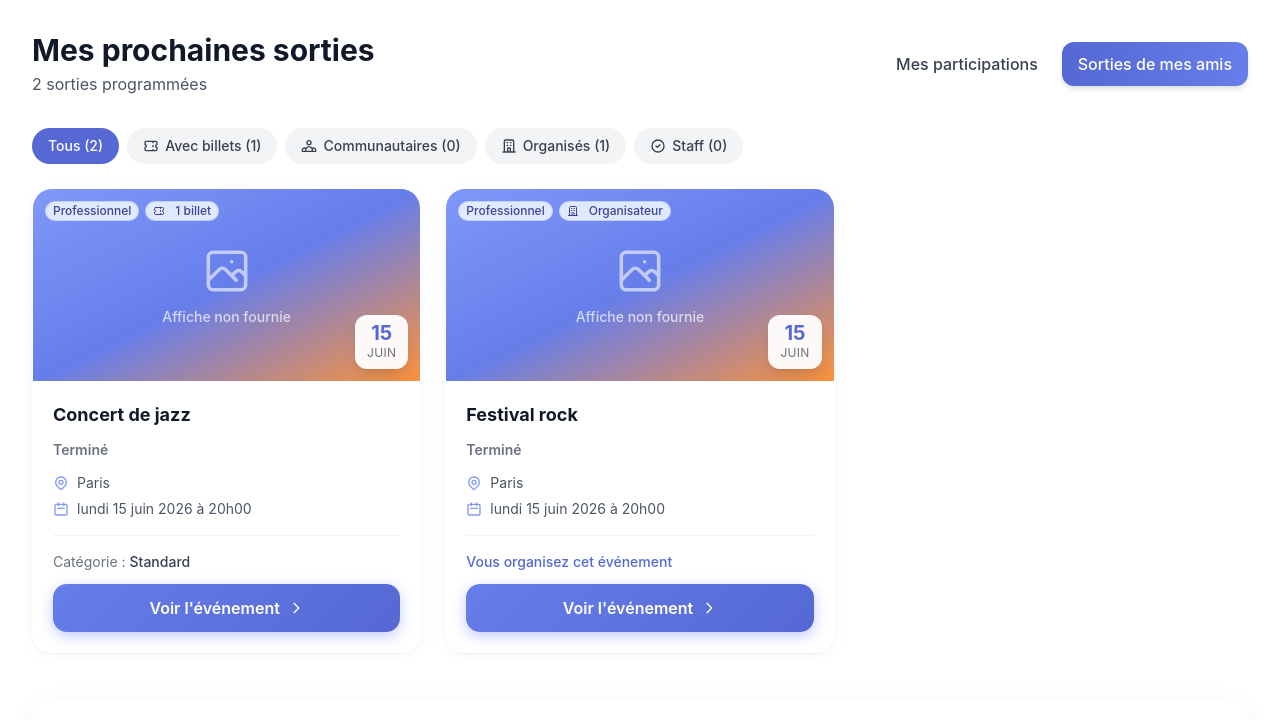
Test: MyUpcomingEventsPage - listing and filters › filters events by participation type
This screenshot has width=1280, height=720.
expect the heading "Concert de jazz" is shown: met, box [53,404,191,425]
Click the button "Organisés (1)" at (555, 146), box [485,128,626,164]
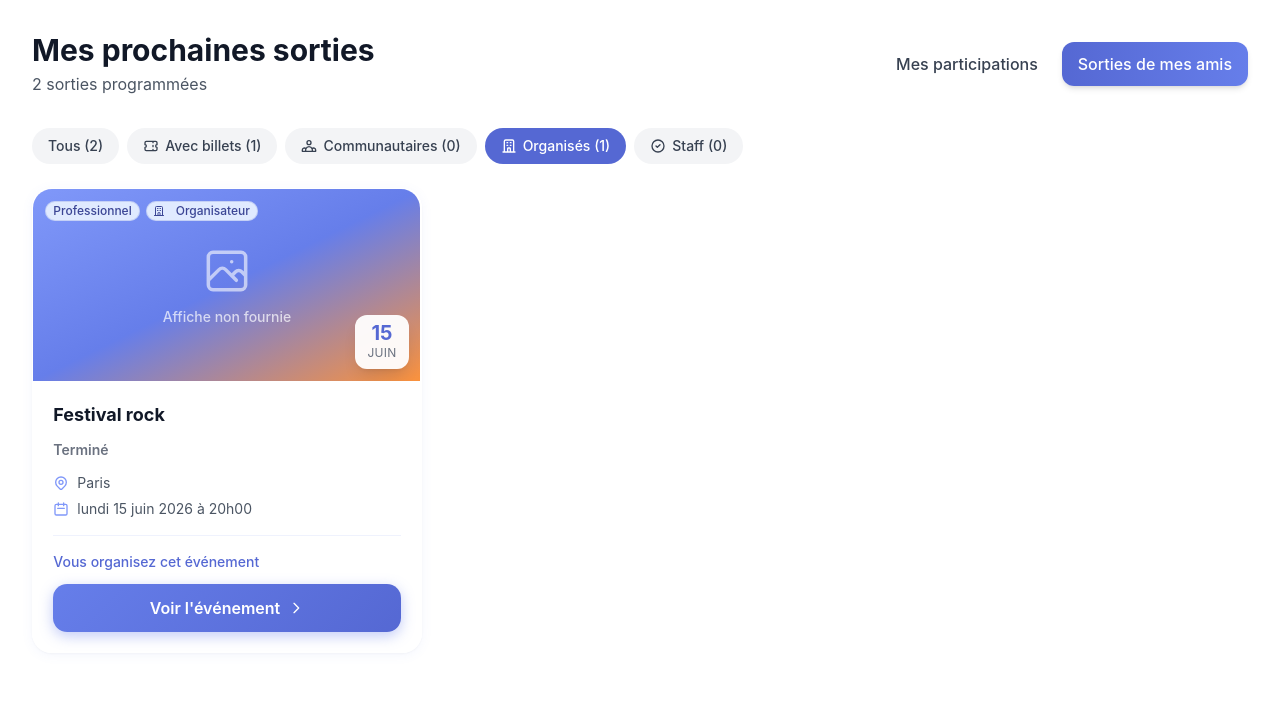
expect the heading "Festival rock" is shown: met, box [53,404,164,425]
expect the heading "Concert de jazz" is gone: met
